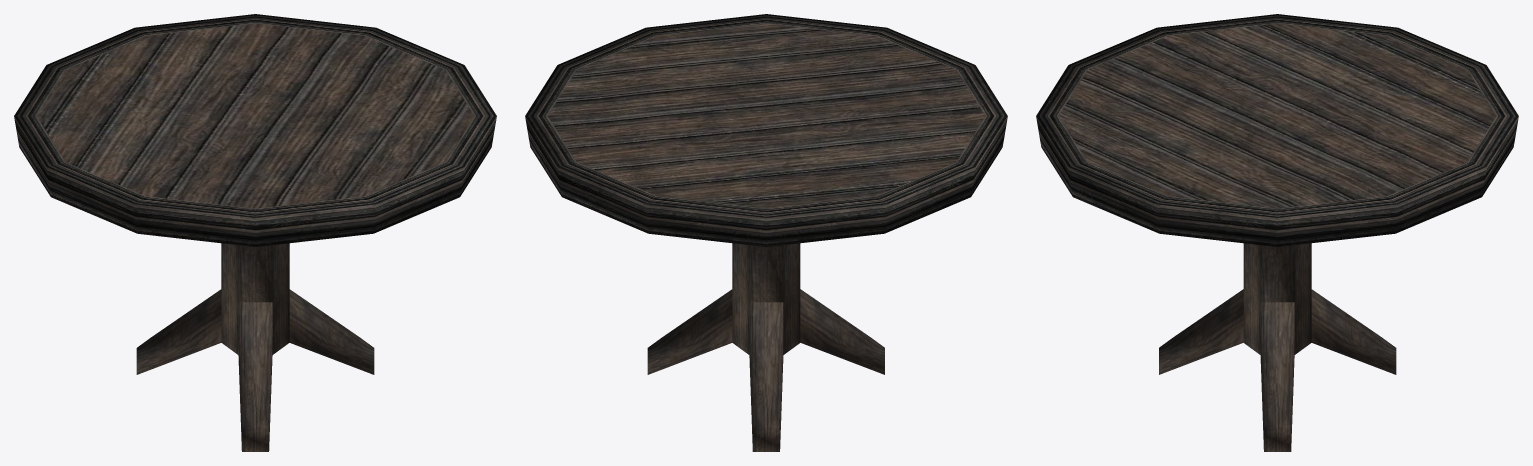
The model's file is GS_TABLE_CIRCULAR_BLACK_01_KOZA.glb.
The picture shows the model from 3 angles, left to right: view 1: azimuth 30°, elevation 25°; view 2: azimuth 150°, elevation 25°; view 3: azimuth 270°, elevation 25°; orthographic projection.
Parts seen in each view (by area): view 1: Mesh; view 2: Mesh; view 3: Mesh.
Boxes of the visible parts, x1,y1,x2,y2 form: Mesh: (14,14,496,451); Mesh: (525,14,1007,451); Mesh: (1036,14,1518,451).
Bounding box in the file's own units: 1.4 × 0.9 × 1.4.
2 materials, 2 textured.
